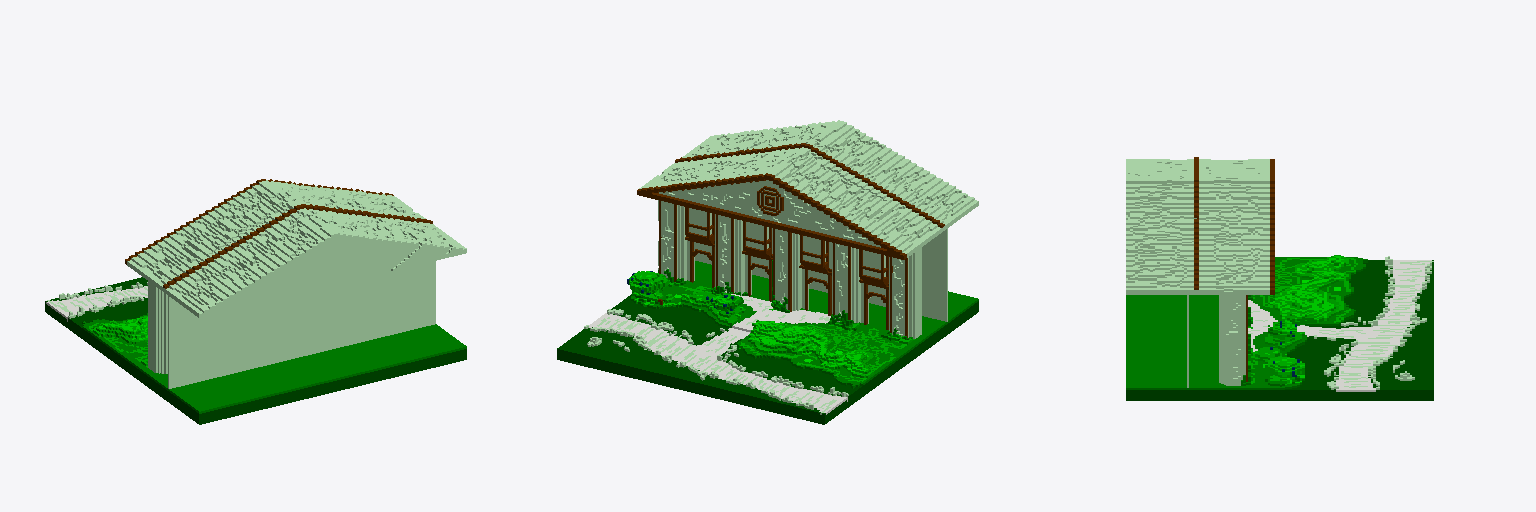
3 renders of one model, left to right at view 1: azimuth 30°, elevation 25°; view 2: azimuth 150°, elevation 25°; view 3: azimuth 270°, elevation 25°, orthographic.
Visible parts, largest first — view 1: object 1; view 2: object 1; view 3: object 1.
Part boxes in pixels (left/top/right/bottom): object 1: left=45, top=179, right=466, bottom=424; object 1: left=557, top=120, right=978, bottom=424; object 1: left=1126, top=157, right=1433, bottom=400.
Bounding box in the file's own units: 12.6 × 7.2 × 12.6.
Materials: 1 (1 with a texture image).